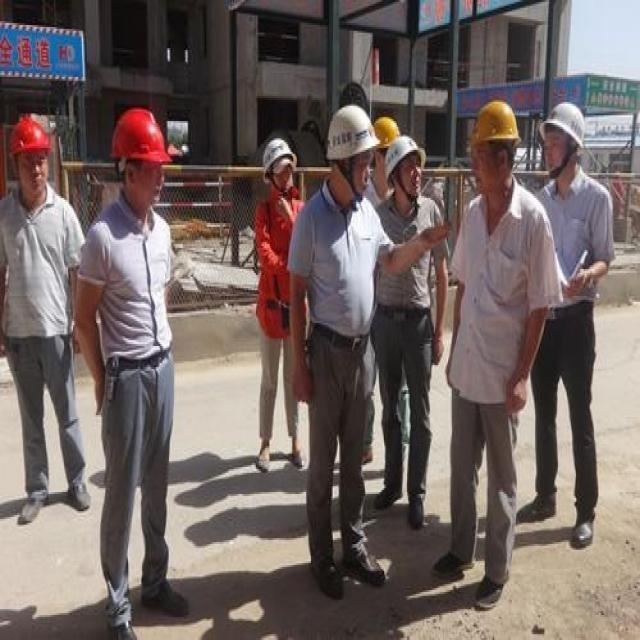Con_Casco: (112, 107, 172, 212), (323, 103, 381, 196)
Sin_Chaleco: (82, 210, 176, 366), (297, 194, 381, 339)
